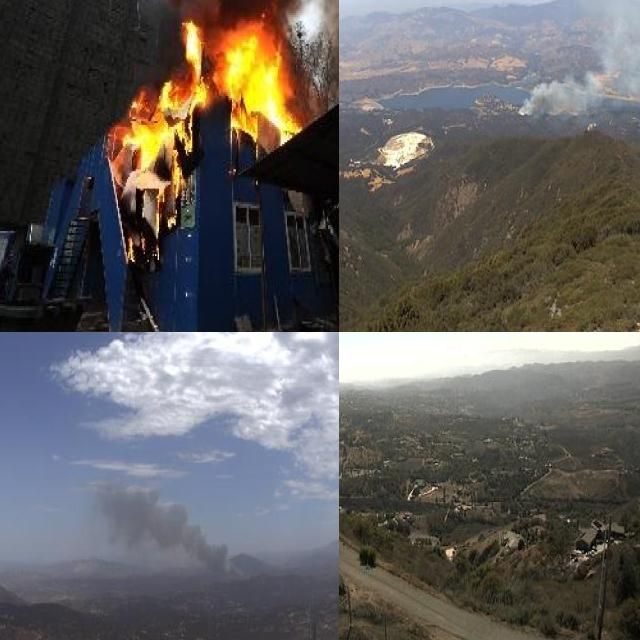fire: (101, 13, 308, 252)
smoke: (84, 471, 251, 588), (518, 0, 640, 120)
